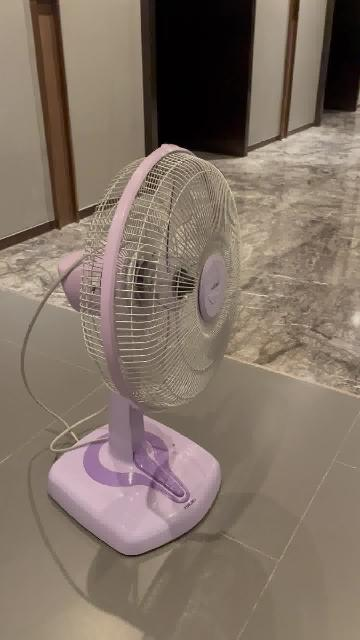Fan: (47, 144, 240, 558)
